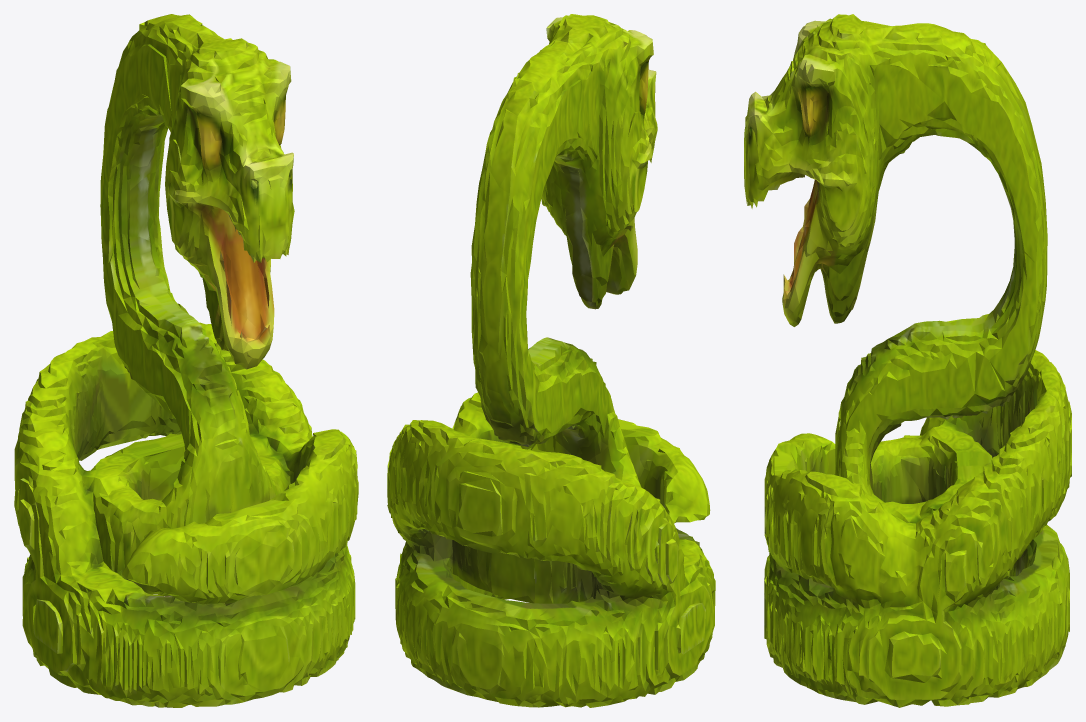
Rendered from serpent_idol.glb.
3 views of the same model, side by side, from view 1: azimuth 30°, elevation 25°; view 2: azimuth 150°, elevation 25°; view 3: azimuth 270°, elevation 25° (orthographic). The views are drawn at different scales.
Visible parts, largest first — view 1: serpent_idol; view 2: serpent_idol; view 3: serpent_idol.
Boxes of the visible parts, left/top/right/bottom form: serpent_idol: left=14, top=14, right=358, bottom=707; serpent_idol: left=387, top=14, right=715, bottom=707; serpent_idol: left=744, top=14, right=1071, bottom=707.
Bounding box in the file's own units: 1.2 × 2.5 × 1.2.
1 material, 1 textured.
